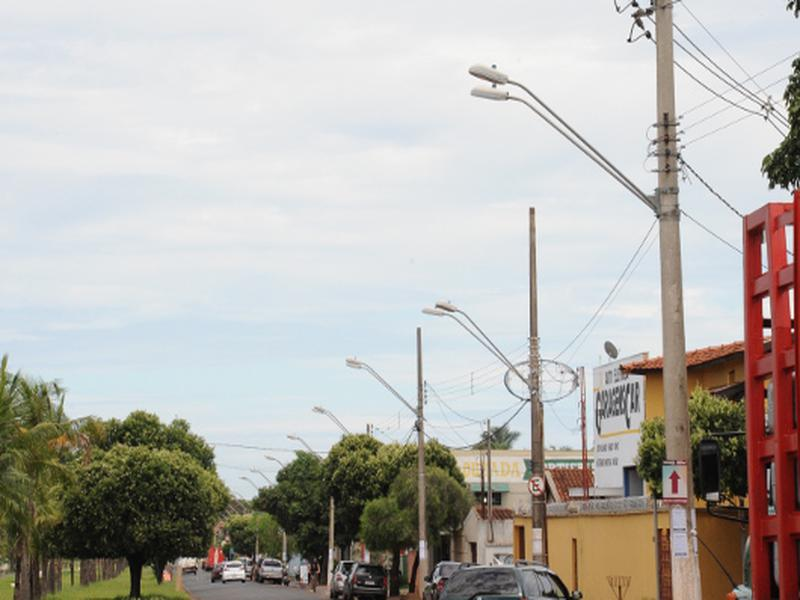IP: (448, 40, 641, 186), (464, 80, 644, 201), (414, 295, 530, 373), (434, 291, 528, 380), (344, 347, 411, 413)
